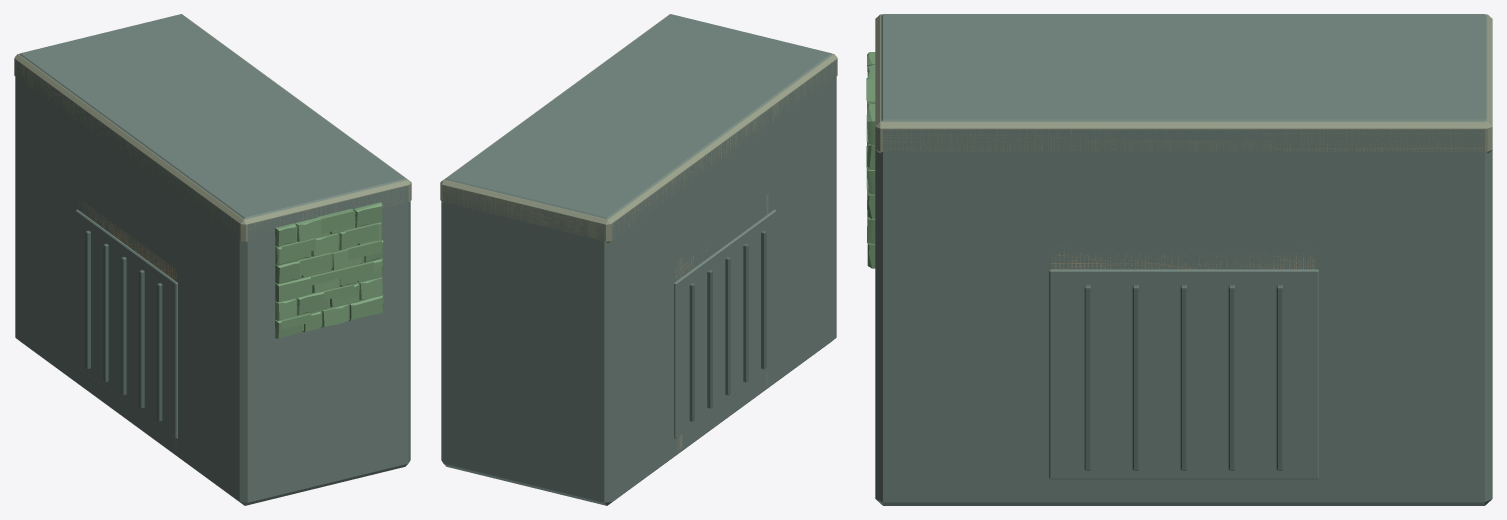
File: sluice-headwall.glb
3 renders of one model, left to right at view 1: azimuth 30°, elevation 25°; view 2: azimuth 150°, elevation 25°; view 3: azimuth 270°, elevation 25°, orthographic. The views are drawn at different scales.
Visible parts, largest first — view 1: temple_temple_water-stained_stone, temple_temple_moss, temple_temple_weathered_stone, temple_temple_oxidized_sluice_metal, temple_temple_sun_stone; view 2: temple_temple_water-stained_stone, temple_temple_weathered_stone, temple_temple_oxidized_sluice_metal; view 3: temple_temple_water-stained_stone, temple_temple_weathered_stone, temple_temple_oxidized_sluice_metal, temple_temple_moss, temple_temple_sun_stone.
Boxes of the visible parts, x1,y1,x2,y2 form: temple_temple_water-stained_stone: [15, 14, 410, 505]; temple_temple_moss: [275, 202, 383, 338]; temple_temple_weathered_stone: [14, 14, 411, 452]; temple_temple_oxidized_sluice_metal: [85, 230, 162, 421]; temple_temple_sun_stone: [79, 199, 176, 281]; temple_temple_water-stained_stone: [441, 14, 836, 505]; temple_temple_weathered_stone: [440, 14, 837, 451]; temple_temple_oxidized_sluice_metal: [689, 230, 766, 421]; temple_temple_water-stained_stone: [875, 14, 1492, 505]; temple_temple_weathered_stone: [875, 14, 1492, 269]; temple_temple_oxidized_sluice_metal: [1084, 285, 1283, 470]; temple_temple_moss: [866, 52, 875, 268]; temple_temple_sun_stone: [1051, 252, 1314, 269].
Bounding box in the file's own units: 7.92 × 12 × 17.61.
